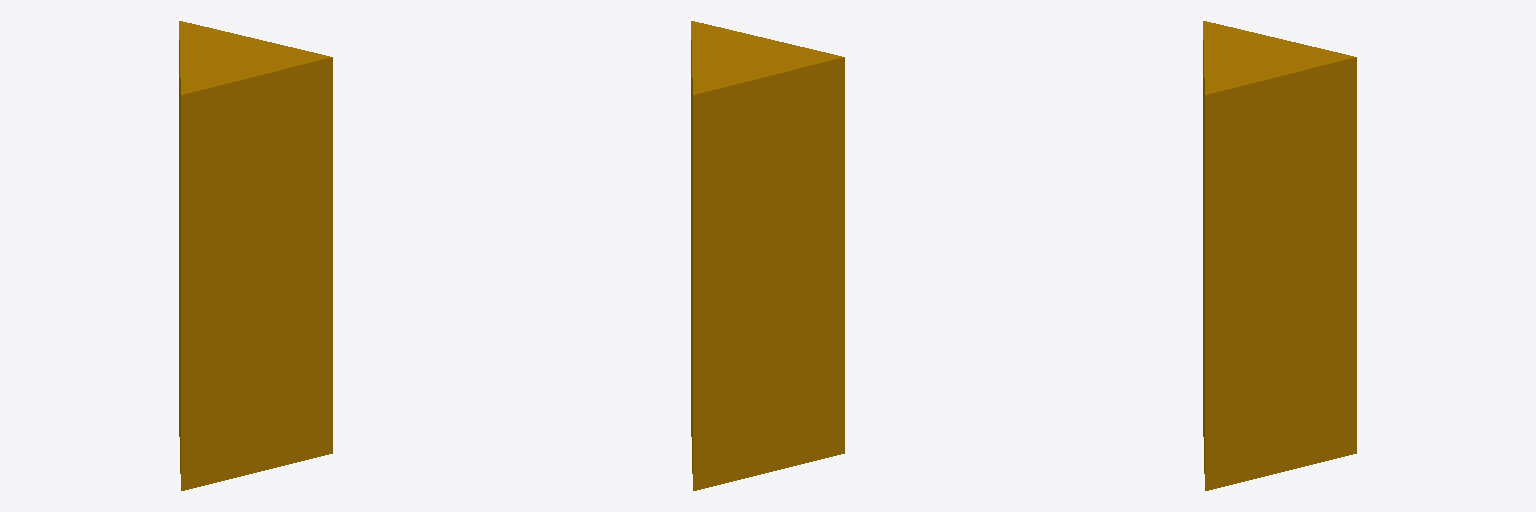
robot.urdf — objects:
<?xml  version="1.0"?>
<robot name ="objects"> 
    <!-- Author: [author]; e-mail:[email redacted]. The urdf file was develped in tongji university.-->

    <!--create  color params-->
    <material name ="LightGrey">
        <color rgba="0.7 0.7 0.7 1.0"/>
    </material>

    <material name ="White">
        <color rgba="1 1 1 1.0"/>
    </material>

    <material name ="Green">
        <color rgba="0.1. 0. 1.0"/>
    </material>

    <material name ="Yellow">
        <color rgba="1. 1. 0. 1.0"/>
    </material>

    <material name ="Orange">
        <color rgba="1. 0.38 0. 1.0"/>
    </material>

    <material name ="Blue">
        <color rgba="0.69 0.87 0.9 1.0"/>
    </material>

    <material name ="Black">
        <color rgba="0. 0. 0. 1.0"/>
    </material>

    <material name ="DarkGold">
        <color rgba="0.72 0.52 0.04 1.0"/>
    </material>

    <mass name ="table_mass">
        <mass value="1.0"/>
    </mass>

    <mass name ="cylander_mass">
        <mass value="2.0"/>
    </mass>



    <link  name ="World"/>

    <joint name="cylinder1_to_world" type="floating">
        <parent link="World"/>
        <child link="cylinder1"/>
        <origin xyz="0. 0. 0." rpy="0.0 0.0 0.0"/>
    </joint>

    <link name = "cylinder1">
        <contact>
            <lateral_friction value="0.05"/>
            <rolling_friction value="0.0"/>
            <contact_erp value="1.0"/>
        </contact>
        <visual>
            <origin  xyz="0.0 0.0 0.0" rpy="0.0 0.0 0.0"/>
            <geometry>
                <mesh filename = "meshes/triangle.stl"/>
            </geometry >
            <material name ="DarkGold"/>
        </visual>
        <collision>
            <origin xyz="0.0 0.0 0.0" rpy="0.0 0.0 0.0"/>
            <geometry>
                <mesh filename ="meshes/triangle.stl"/>
            </geometry>
        </collision>
        <inertial>
            <mass value = "0.5"/>
            <inertia ixx="1" ixy="0.0" ixz="0.0" iyy="1" iyz="0.0" izz="1"/>
        </inertial>
    </link>
</robot>

--- Render facts (derived) ---
The picture shows the robot from 3 angles, left to right: view 1: azimuth 30°, elevation 25°; view 2: azimuth 150°, elevation 25°; view 3: azimuth 270°, elevation 25°; orthographic projection.
Robot: objects — 2 links, 1 joints (1 floating); root link World; default pose: every joint at zero.
Visible links, largest first — view 1: cylinder1; view 2: cylinder1; view 3: cylinder1.
Boxes of the visible links, <box> form: cylinder1: <box>179,21,332,490</box>; cylinder1: <box>691,21,844,490</box>; cylinder1: <box>1203,21,1356,490</box>.
Size in the robot's own frame: 0.1212 by 0.1057 by 0.3 metres.
Meshes: 1 distinct files referenced, 1 mesh visuals loaded (1 binary STL).